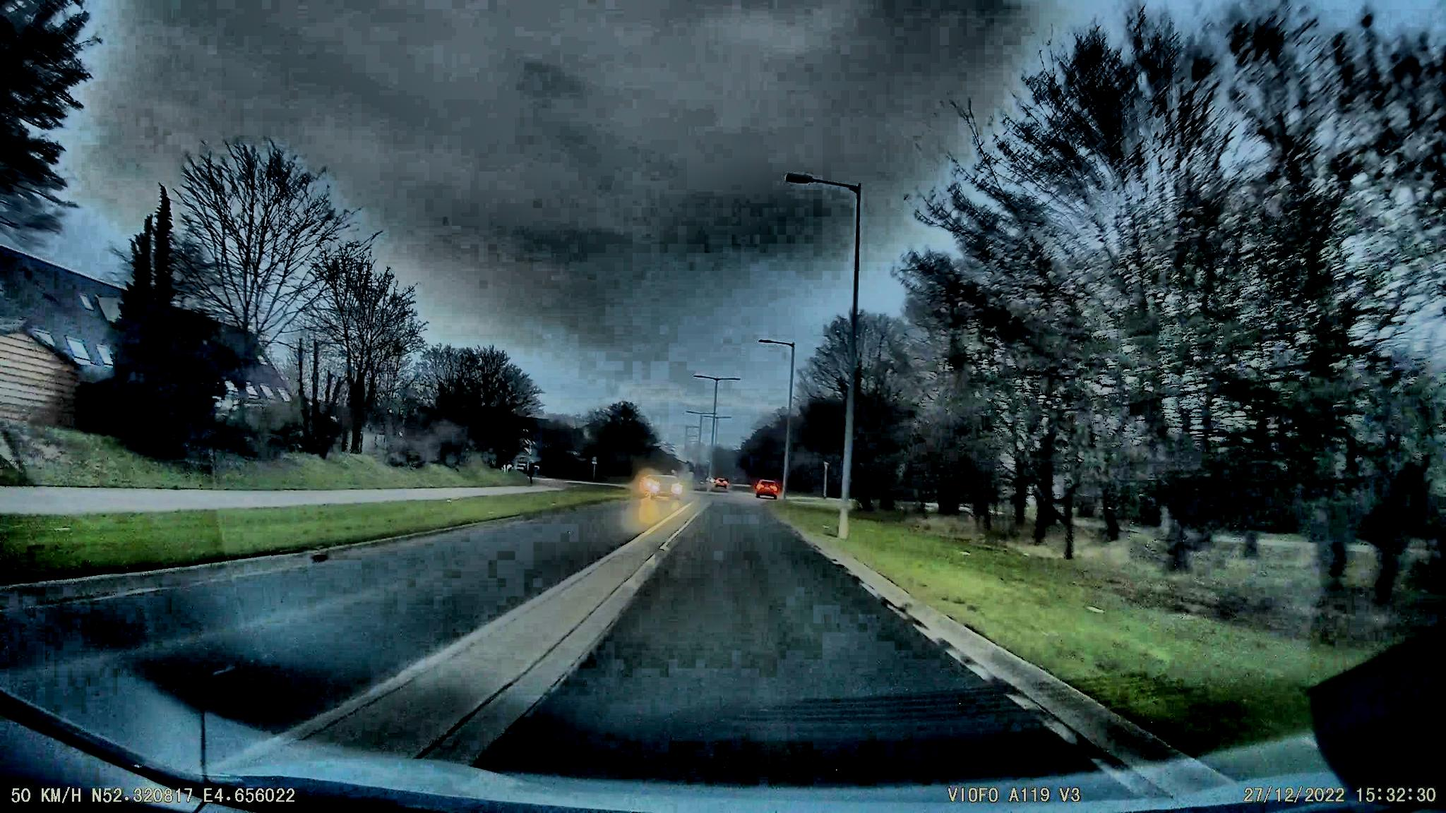Roads: (0, 492, 1162, 813)
